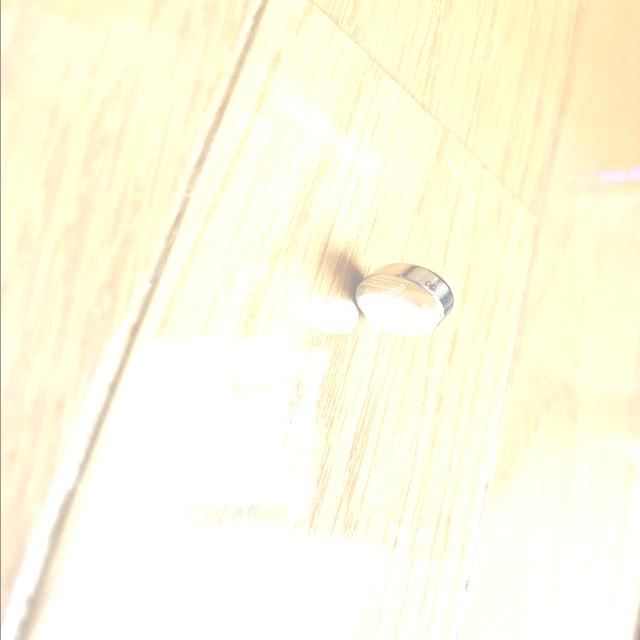COIN: (353, 261, 454, 338)
